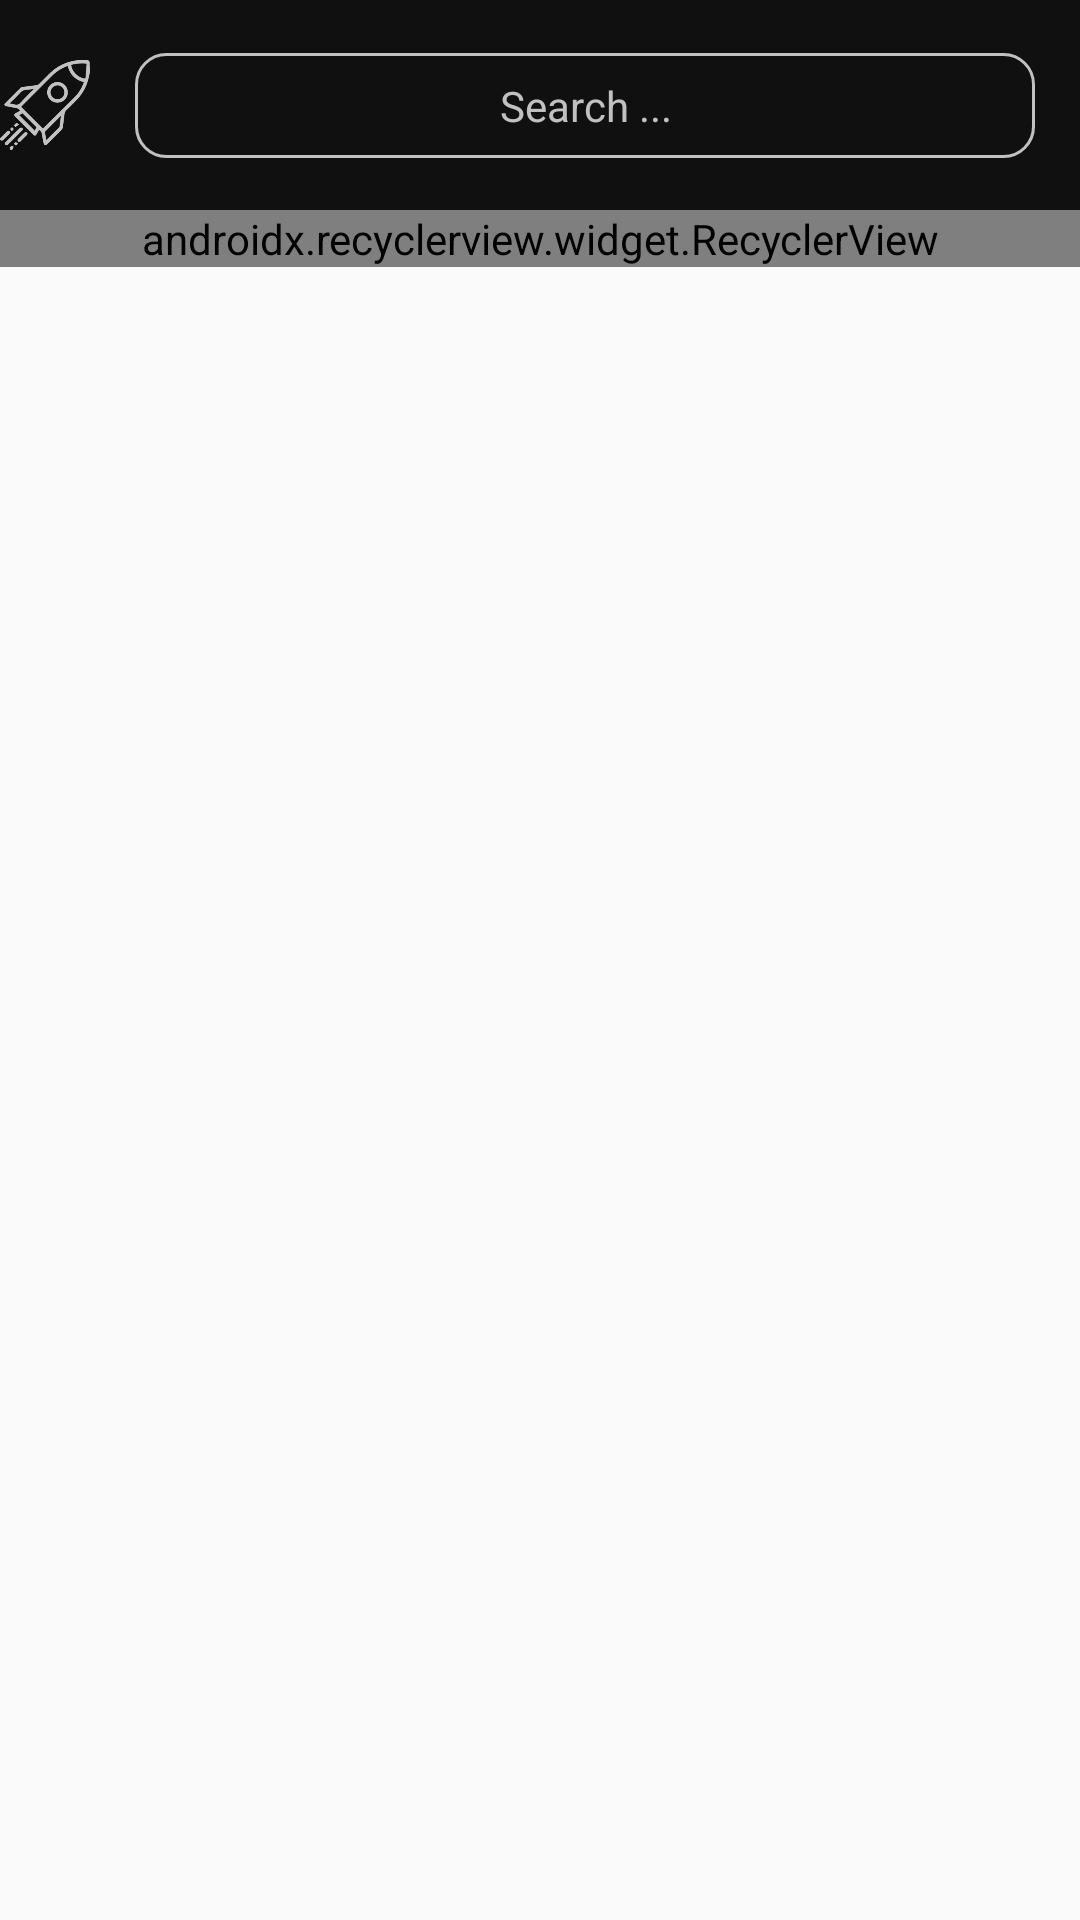

Locate icon controls on the screen. Image size 1080×1920, boxes as [x1, y1, x2, y2].
rocket: [0, 60, 90, 150]
